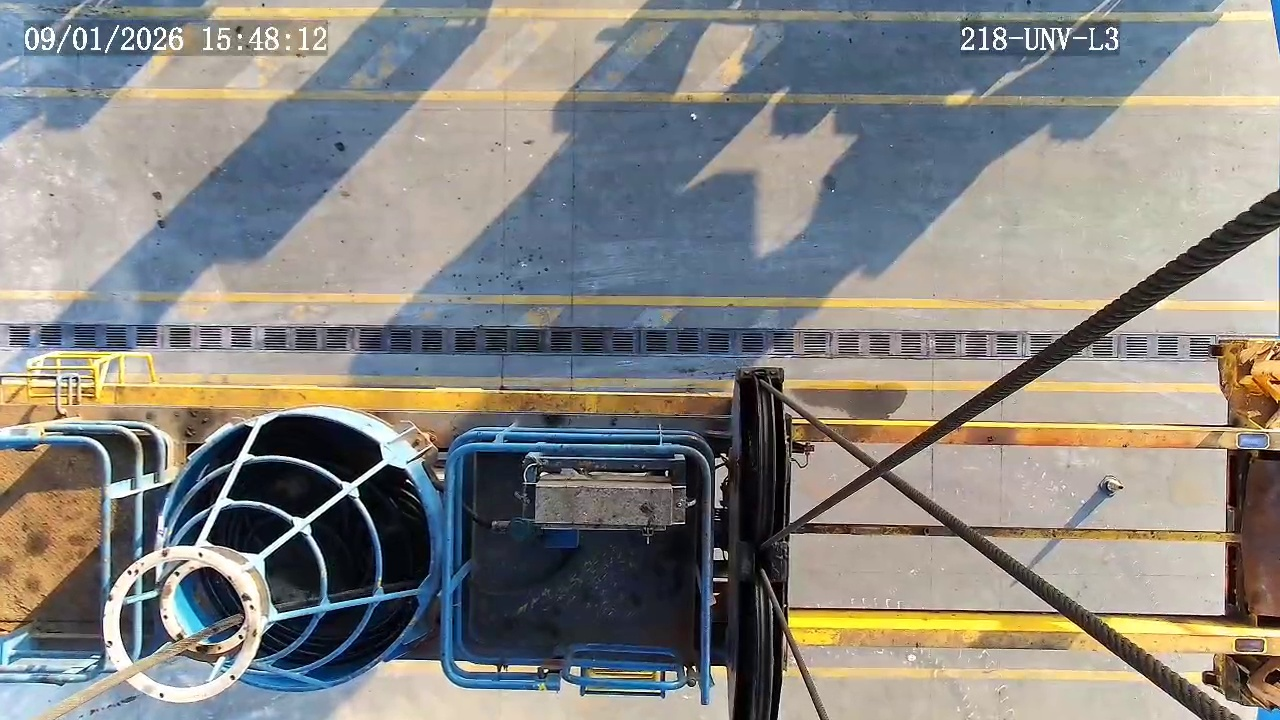right: (154, 412, 436, 691)
